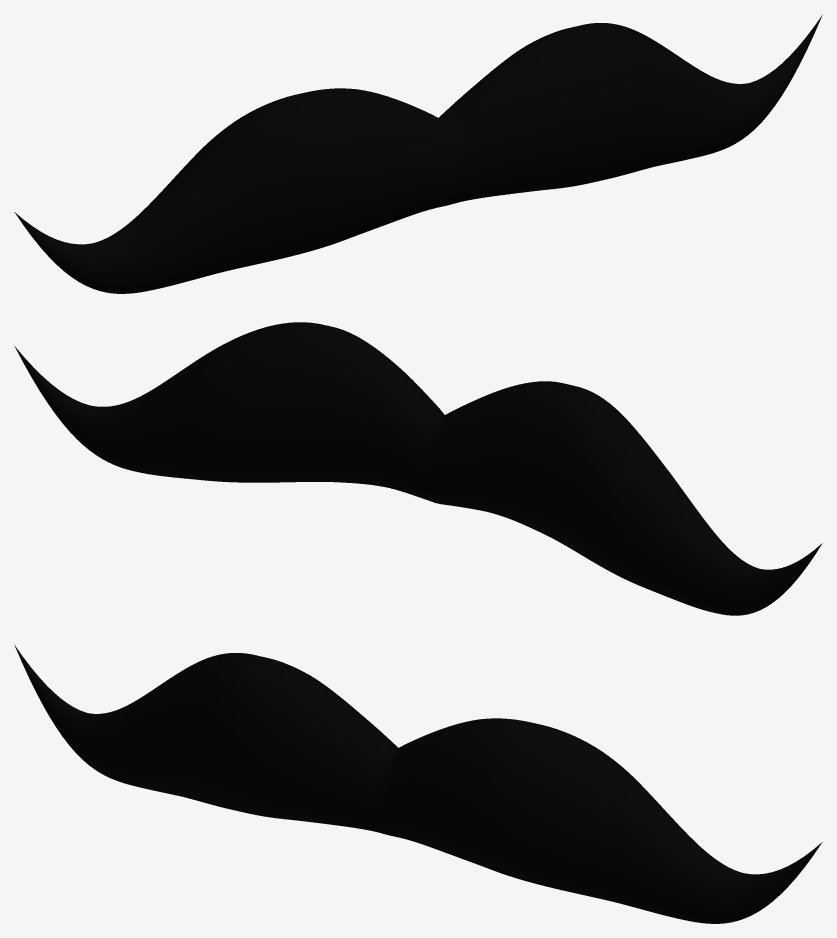
Rendered from moustache.fbx.
3 renders of one model, top to bottom at view 1: azimuth 30°, elevation 25°; view 2: azimuth 150°, elevation 25°; view 3: azimuth 330°, elevation 25°, orthographic.
Visible parts, largest first — view 1: Mustash.001; view 2: Mustash.001; view 3: Mustash.001.
Part boxes in pixels (<box>): Mustash.001: <box>14,15,822,293</box>; Mustash.001: <box>14,322,822,615</box>; Mustash.001: <box>14,645,822,923</box>.
Size of the model in its own units: 7656 by 1589 by 878.
Materials: 1 (1 with a texture image).
